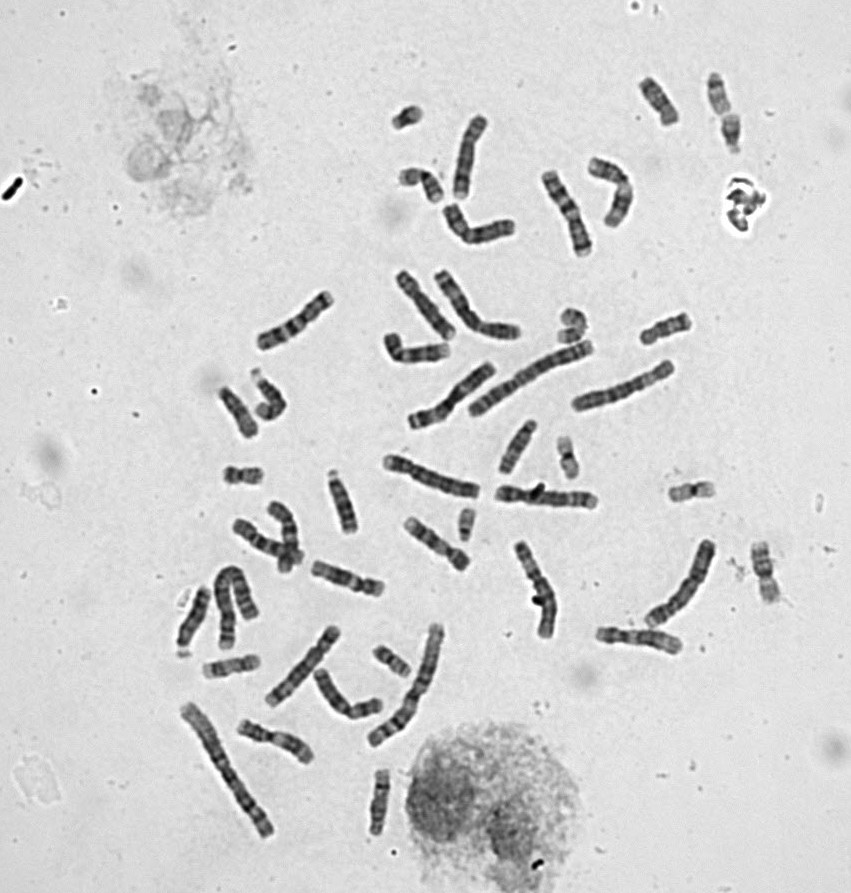chromosomes: (176, 700, 282, 843), (465, 337, 602, 419), (364, 619, 449, 751), (258, 623, 346, 709), (402, 361, 502, 436), (430, 269, 527, 343), (644, 534, 719, 629), (566, 357, 681, 415), (536, 167, 596, 262), (379, 449, 483, 502), (398, 511, 475, 582), (509, 538, 561, 643), (251, 290, 339, 351), (393, 269, 459, 346), (230, 718, 322, 771), (209, 562, 262, 651), (449, 114, 498, 205), (310, 670, 386, 721), (228, 516, 307, 565), (588, 153, 637, 231), (169, 585, 217, 663), (442, 201, 520, 249), (303, 559, 390, 601), (490, 485, 604, 513), (213, 380, 262, 445), (322, 468, 362, 538), (590, 626, 687, 654), (745, 536, 782, 609), (265, 499, 300, 576), (496, 418, 540, 478), (381, 328, 454, 364), (635, 76, 684, 129), (629, 311, 696, 348), (249, 366, 290, 420), (367, 763, 396, 839), (393, 166, 447, 205), (197, 651, 268, 679), (704, 63, 738, 120), (368, 638, 414, 679), (661, 480, 720, 509), (554, 302, 591, 346), (718, 113, 752, 160), (553, 435, 581, 483), (386, 104, 429, 135), (219, 464, 266, 487), (454, 503, 475, 545)
